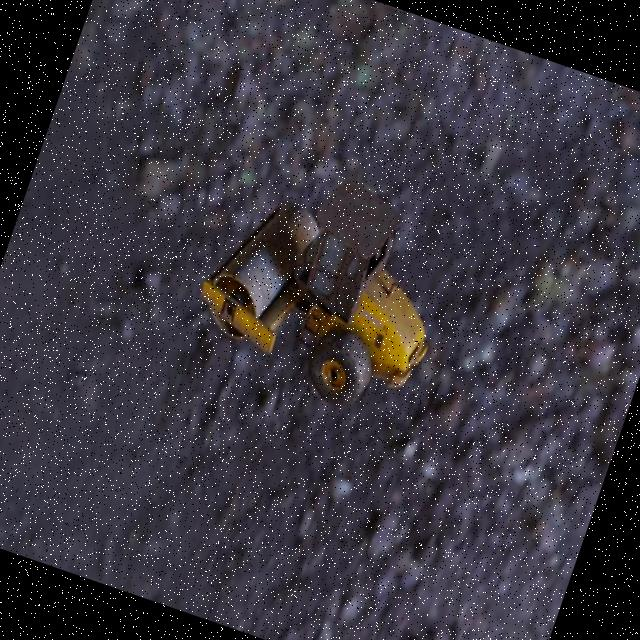Roller: (180, 143, 471, 428)
